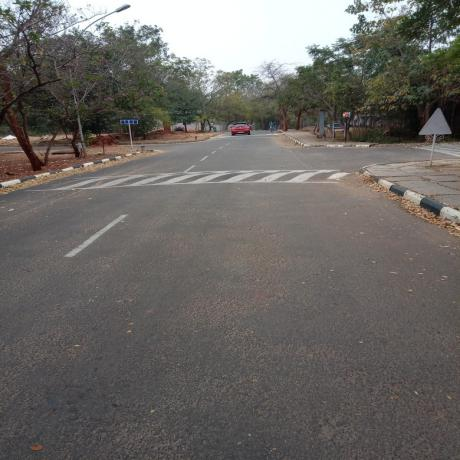Speed Bump: (22, 170, 364, 184)
